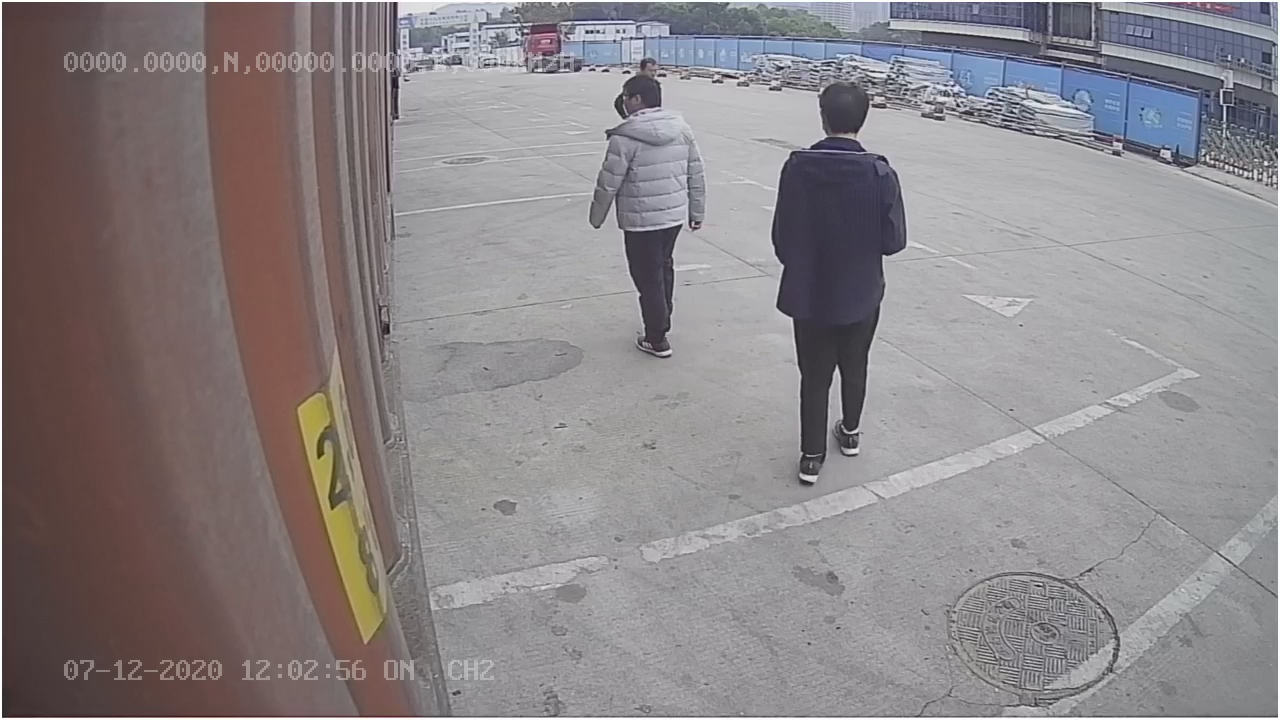person: (769, 74, 906, 483)
